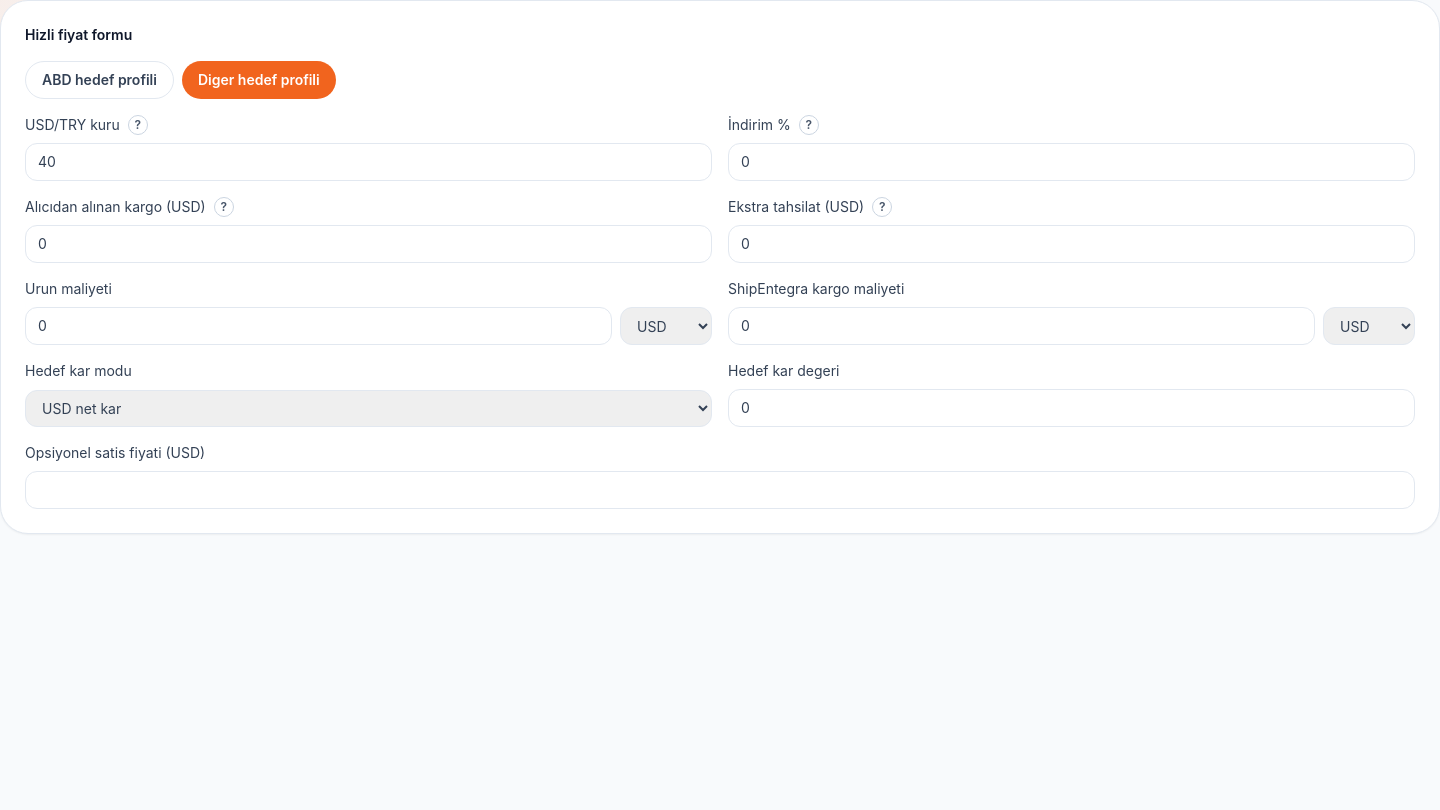
Scenario: switches between OTHER and US profiles and shows the import-duty preview for US
Expected: the number field named "usd/try kuru" is shown, top-left (25, 143), bottom-right (712, 181)
Expected: the number field labelled "manuel ithalat vergisi orani" is not shown
Click the button "ABD hedef profili" at coordinates (99, 80), box top-left (25, 61), bottom-right (174, 99)
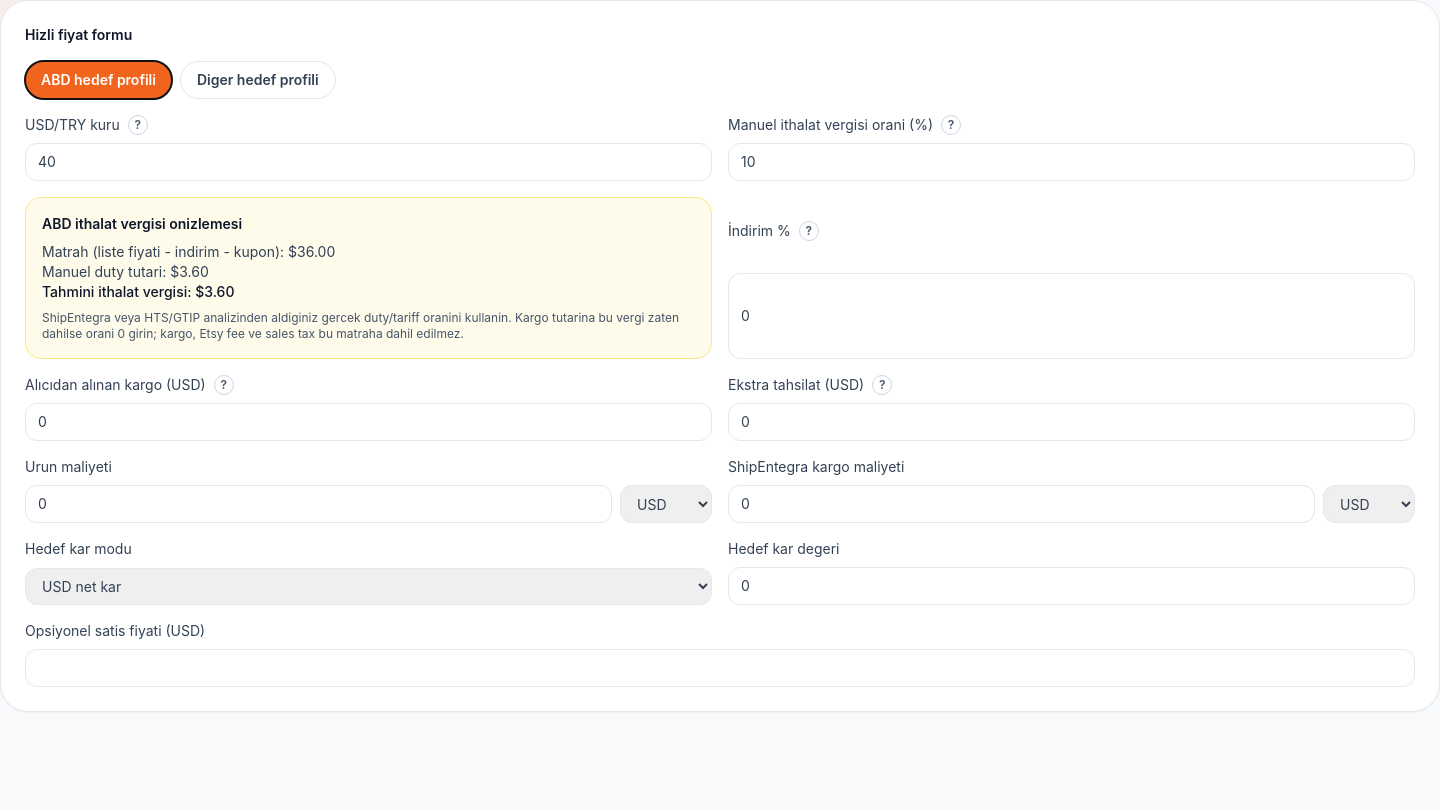
Now the number field named "manuel ithalat vergisi orani (%)" is shown, box top-left (728, 143), bottom-right (1415, 181)
Now the text "ABD ithalat vergisi onizlemesi" is shown, box top-left (42, 215), bottom-right (242, 232)
Now the text "Manuel duty tutari: $3.60" is shown, box top-left (42, 263), bottom-right (209, 280)
